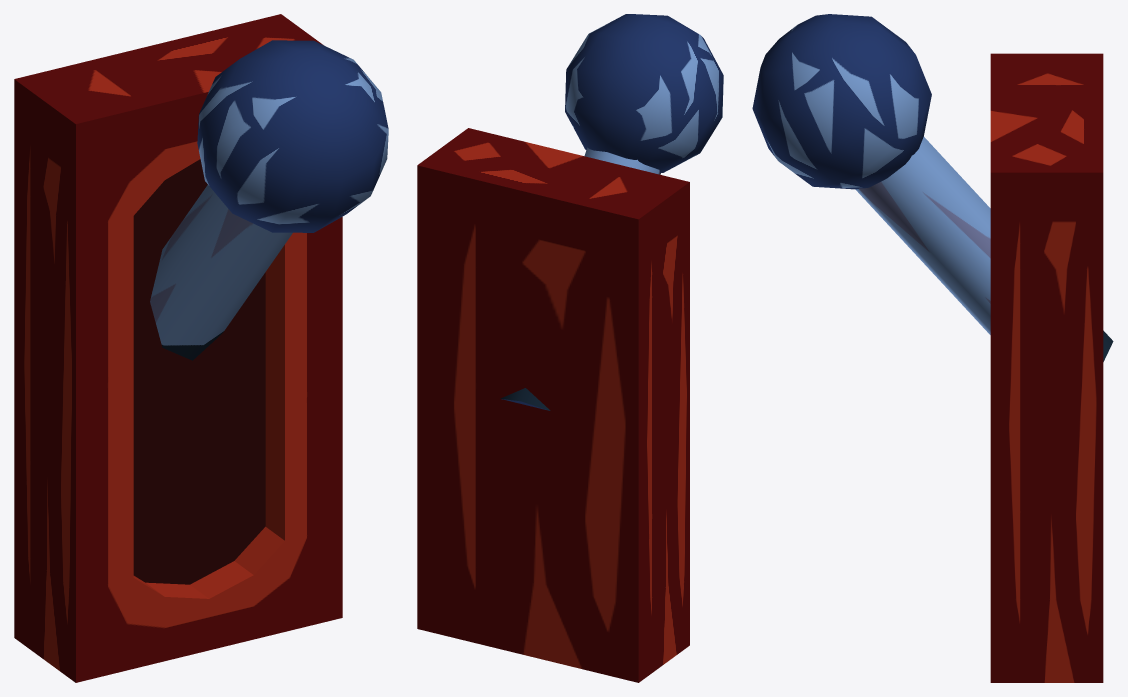
Rendered from GRP_PRMC_Palanca.FBX.
3 views of the same model, side by side, from view 1: azimuth 30°, elevation 25°; view 2: azimuth 150°, elevation 25°; view 3: azimuth 270°, elevation 25° (orthographic). The views are drawn at different scales.
Parts seen in each view (by area): view 1: PRMC_Palanca01, PRMC_Palanca02; view 2: PRMC_Palanca01, PRMC_Palanca02; view 3: PRMC_Palanca01, PRMC_Palanca02.
Boxes of the visible parts, x1=… form: PRMC_Palanca01: x1=14, y1=14, x2=342, y2=682; PRMC_Palanca02: x1=150, y1=40, x2=388, y2=360; PRMC_Palanca01: x1=417, y1=128, x2=689, y2=682; PRMC_Palanca02: x1=500, y1=14, x2=723, y2=410; PRMC_Palanca01: x1=990, y1=53, x2=1103, y2=682; PRMC_Palanca02: x1=752, y1=14, x2=1113, y2=361.
Size of the model in its own units: 0.5 by 1.18 by 0.6413.
